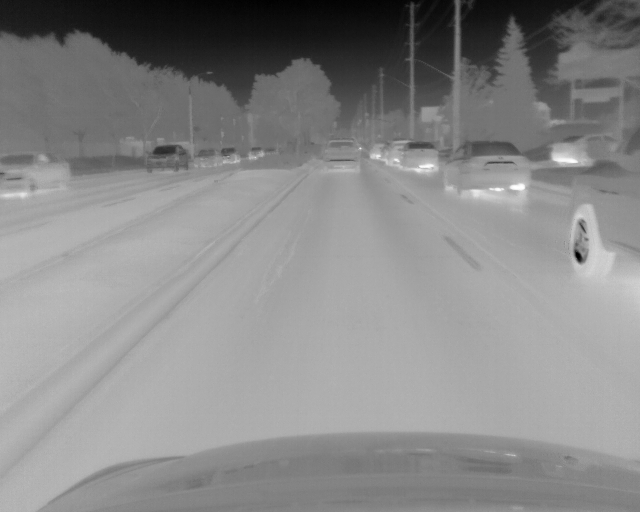car: (566, 121, 640, 280), (443, 141, 530, 197), (1, 152, 72, 197), (549, 133, 617, 166), (143, 144, 189, 174), (323, 140, 360, 174), (400, 142, 438, 170), (193, 149, 222, 168), (387, 141, 400, 167), (221, 147, 240, 164), (369, 141, 381, 161), (247, 146, 264, 159)
